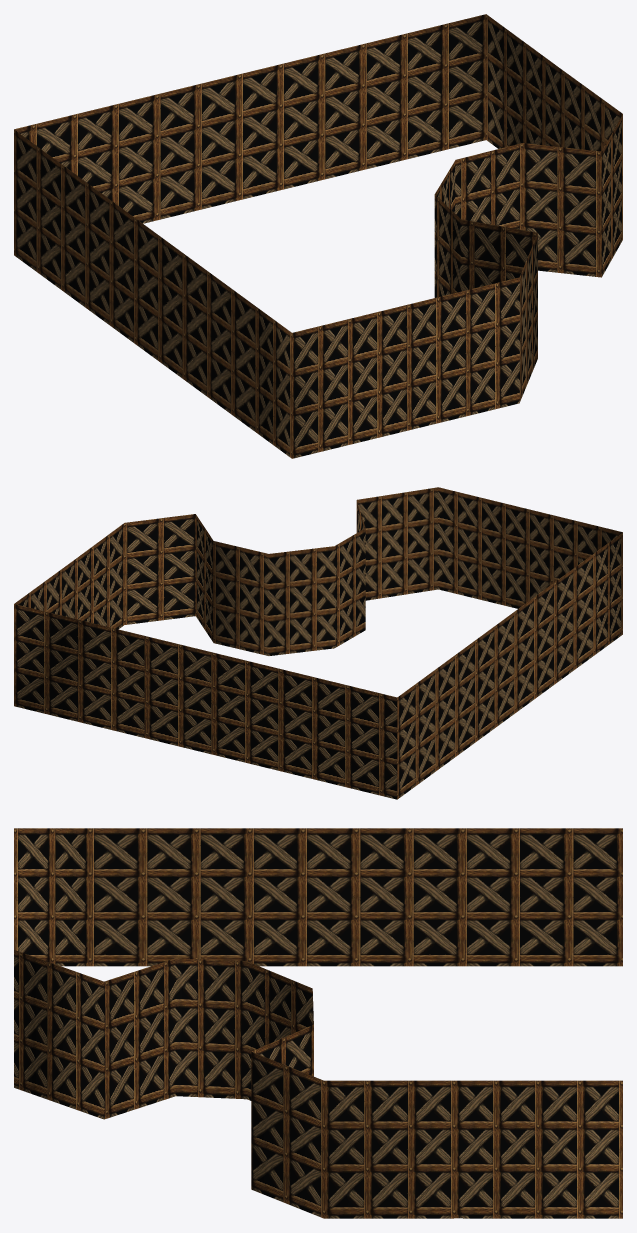
Rendered from LAKETOWN_EXTERIOR_PS_LT_INSIDE_WALL_01.fbx.
3 renders of one model, top to bottom at view 1: azimuth 30°, elevation 25°; view 2: azimuth 150°, elevation 25°; view 3: azimuth 270°, elevation 25°, orthographic. The views are drawn at different scales.
Parts seen in each view (by area): view 1: LAKETOWN_EXTERIOR_PS_LT_INSIDE_WALL_01; view 2: LAKETOWN_EXTERIOR_PS_LT_INSIDE_WALL_01; view 3: LAKETOWN_EXTERIOR_PS_LT_INSIDE_WALL_01.
Part boxes in pixels (x1,y1,x2,y2): LAKETOWN_EXTERIOR_PS_LT_INSIDE_WALL_01: [14, 14, 622, 458]; LAKETOWN_EXTERIOR_PS_LT_INSIDE_WALL_01: [14, 487, 622, 799]; LAKETOWN_EXTERIOR_PS_LT_INSIDE_WALL_01: [14, 828, 622, 1218].
Size of the model in its own units: 283563 by 72254 by 289032.
1 material, 1 textured.
